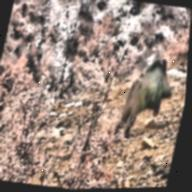boar: (113, 45, 181, 152)
